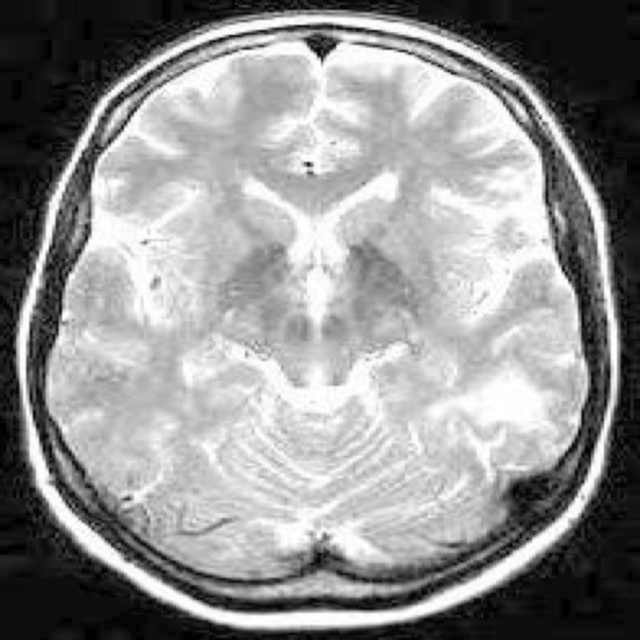glioma tumor: (127, 77, 516, 533)
